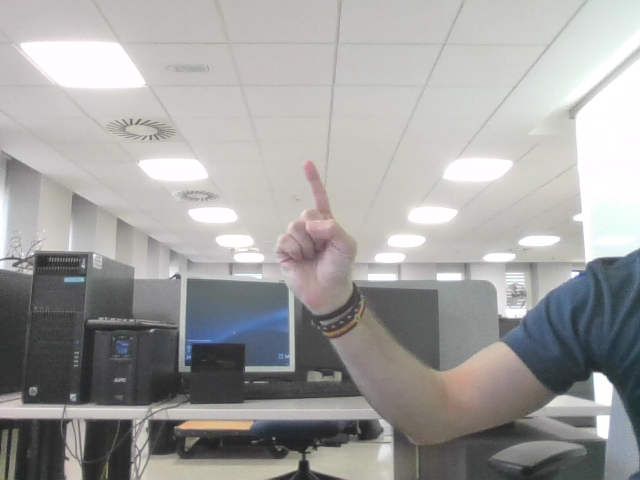1Dedo: (288, 171, 343, 268)
